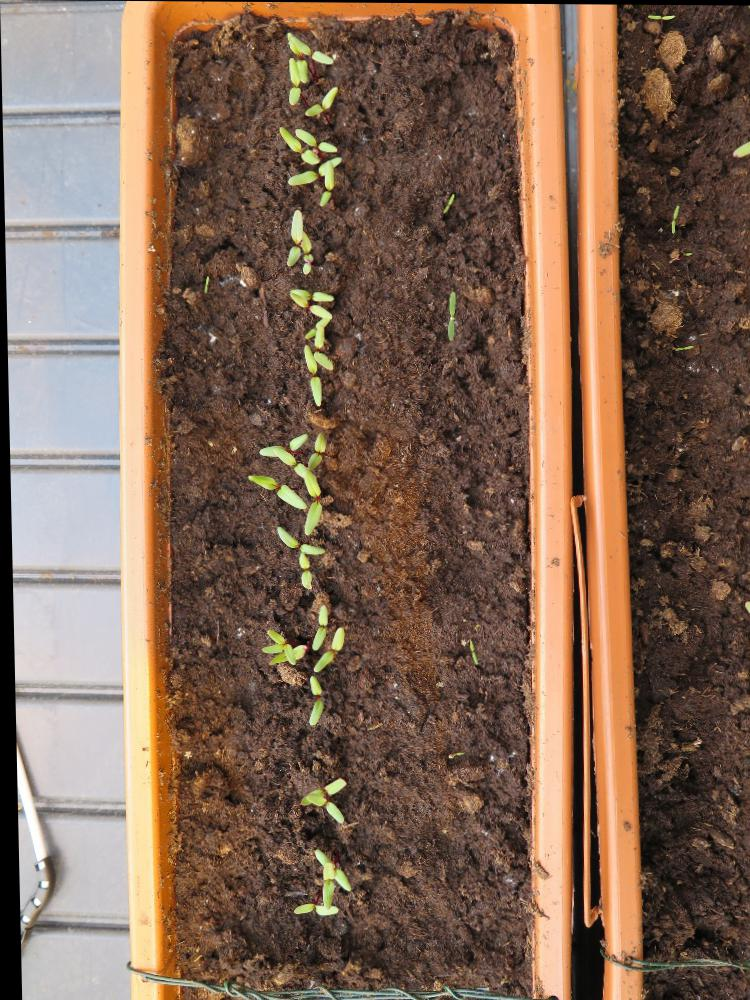crop: (300, 83, 338, 118), (302, 674, 321, 728), (306, 602, 326, 650)
weed: (442, 286, 457, 342), (437, 191, 456, 215), (666, 200, 679, 233), (645, 10, 676, 21), (464, 638, 476, 666)
